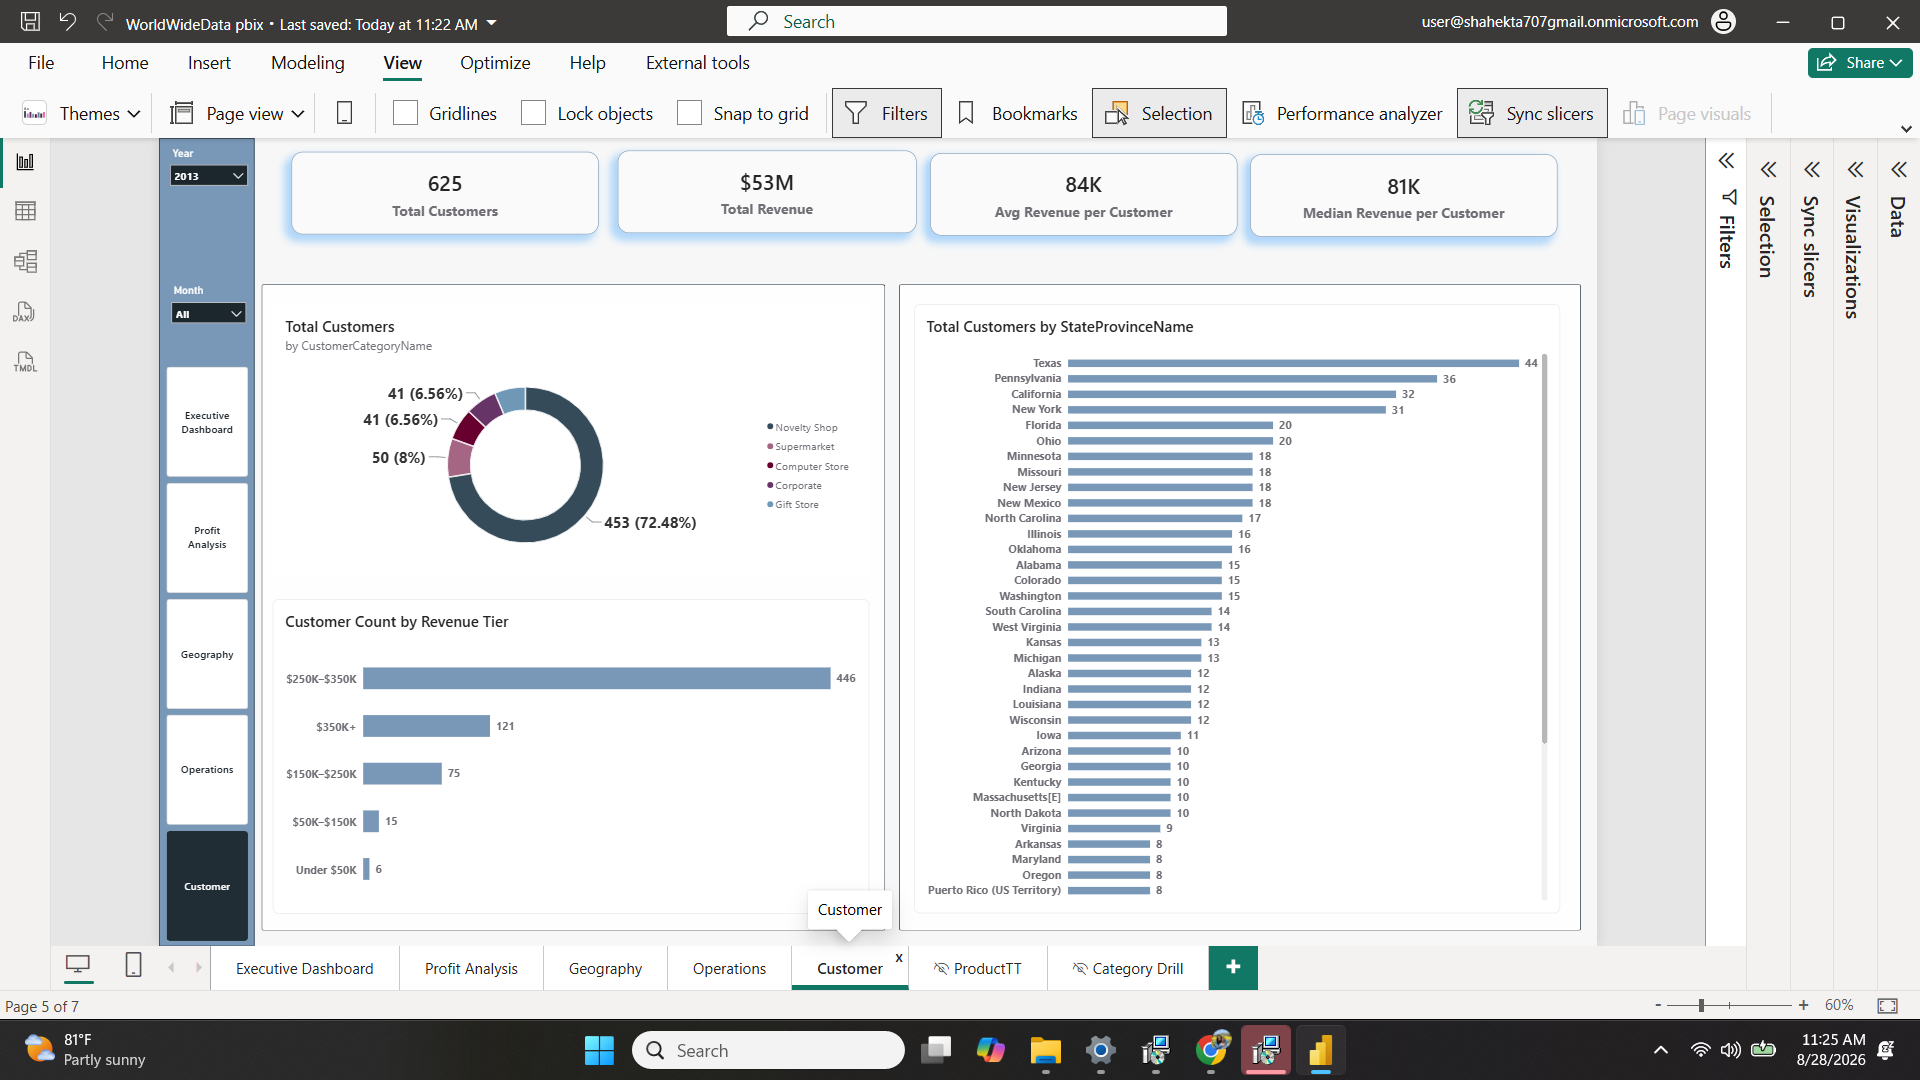

Layout of this report page (visuals, bound fields, positions):
{"tool":"powerbi","page":{"name":"Customer","canvas":[1920,1080],"ordinal":4},"visuals":[{"type":"shape","box":[0,0,127.7,1079.9],"z":0},{"type":"shape","title":"Shape Line","box":[136.3,194.8,833.2,863.5],"z":1000},{"type":"shape","title":"Shape Line","box":[989,194.8,911.1,863.5],"z":2000},{"type":"clusteredBarChart","fields":{"Category":["Dim_ Customers.Revenue Tier"],"Y":["_Measures.Customer Count"]},"box":[151.5,616.8,796.4,419.8],"z":3000},{"type":"card","title":"Top Product by Profit","fields":{"Values":["_Measures.Total Customers"]},"box":[177.3,17.7,410.8,110],"z":4000},{"type":"card","title":"Top Product by Profit","fields":{"Values":["_Measures.Total Revenue"]},"box":[612.9,17.3,399,110.4],"z":5000},{"type":"card","title":"Top Product by Profit","fields":{"Values":["_Measures.Avg Revenue per Customer"]},"box":[1030.6,19.5,410,110],"z":6000},{"type":"donutChart","fields":{"Category":["Dim_ Customers.CustomerCategoryName"],"Y":["_Measures.Total Customers"]},"box":[151.5,222.9,796.4,365.7],"z":7000},{"type":"card","title":"Top Product by Profit","fields":{"Values":["_Measures.Median Revenue per Customer"]},"box":[1456.9,21.6,410,110.4],"z":8000},{"type":"clusteredBarChart","fields":{"Category":["Dim_ Customers.StateProvinceName"],"Y":["_Measures.Total Customers"]},"box":[1008.5,222.9,863.5,813.7],"z":9000},{"type":"pageNavigator","box":[10.5,305.2,109.9,770.9],"z":11001},{"type":"slicer","fields":{"Values":["Dim_Date.Year"]},"box":[10.5,12.2,114,63.3],"z":11002},{"type":"slicer","fields":{"Values":["Dim_ Customers.AccountOpenedDate.Variation.Date Hierarchy.Month"]},"box":[12.2,195.3,109.9,52.3],"z":11003}]}

Visuals, with their boxes on the page's 1920x1080 design canvas (x1, y1, x2, y2). These are canvas units, not pixel positions in the 1920x1080 screenshot, which may show the page scaled, cropped or inside an application window:
shape: [left=0, top=0, right=128, bottom=1080]
"Shape Line" shape: [left=136, top=195, right=970, bottom=1058]
"Shape Line" shape: [left=989, top=195, right=1900, bottom=1058]
clusteredBarChart - Dim_ Customers.Revenue Tier x _Measures.Customer Count: [left=152, top=617, right=948, bottom=1037]
"Top Product by Profit" card: [left=177, top=18, right=588, bottom=128]
"Top Product by Profit" card: [left=613, top=17, right=1012, bottom=128]
"Top Product by Profit" card: [left=1031, top=20, right=1441, bottom=130]
donutChart - Dim_ Customers.CustomerCategoryName x _Measures.Total Customers: [left=152, top=223, right=948, bottom=589]
"Top Product by Profit" card: [left=1457, top=22, right=1867, bottom=132]
clusteredBarChart - Dim_ Customers.StateProvinceName x _Measures.Total Customers: [left=1008, top=223, right=1872, bottom=1037]
pageNavigator: [left=10, top=305, right=120, bottom=1076]
slicer - Dim_Date.Year: [left=10, top=12, right=124, bottom=76]
slicer - Dim_ Customers.AccountOpenedDate.Variation.Date Hierarchy.Month: [left=12, top=195, right=122, bottom=248]
